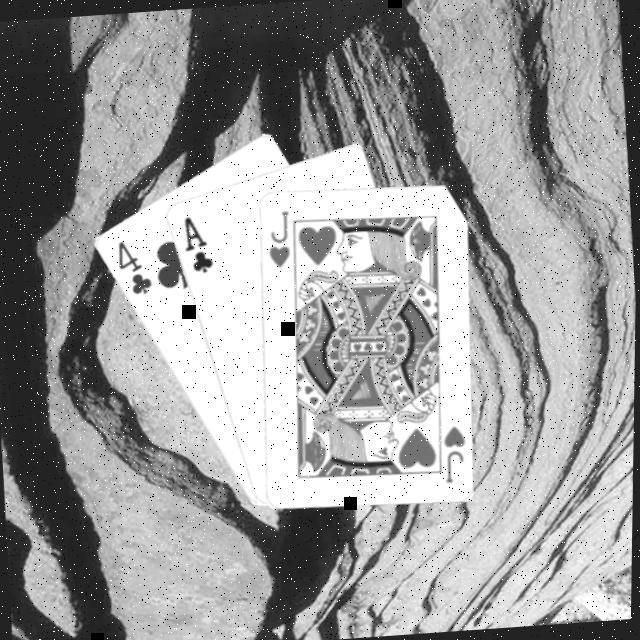4C: (113, 236, 158, 301)
AC: (180, 213, 219, 278)
JH: (264, 208, 297, 272), (441, 423, 474, 487)
